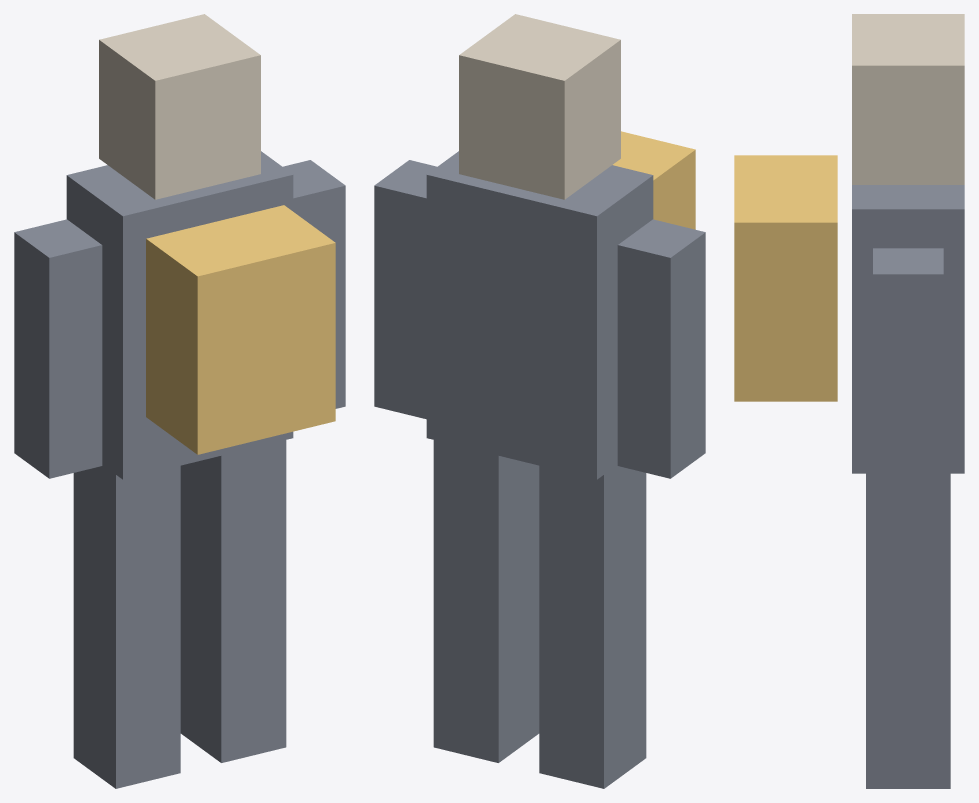
Rendered from npc_rucksack.glb.
3 views of the same model, side by side, from view 1: azimuth 30°, elevation 25°; view 2: azimuth 150°, elevation 25°; view 3: azimuth 270°, elevation 25° (orthographic).
Parts seen in each view (by area): view 1: rucksack, bein_links, bein_rechts, kopf, rumpf, arm_links, arm_rechts; view 2: rumpf, bein_links, bein_rechts, kopf, arm_links, arm_rechts, rucksack; view 3: rucksack, bein_rechts, kopf, arm_rechts, rumpf.
Boxes of the visible parts, <box> form: rucksack: <box>146,205,335,454</box>; bein_links: <box>73,465,180,788</box>; bein_rechts: <box>180,440,286,762</box>; kopf: <box>99,14,260,199</box>; rumpf: <box>66,151,293,479</box>; arm_links: <box>14,219,102,478</box>; arm_rechts: <box>283,160,345,408</box>; rumpf: <box>426,151,653,479</box>; bein_links: <box>539,465,646,788</box>; bein_rechts: <box>433,440,539,762</box>; kopf: <box>459,14,620,199</box>; arm_links: <box>617,219,705,478</box>; arm_rechts: <box>374,160,436,419</box>; rucksack: <box>613,131,695,229</box>; rucksack: <box>734,155,837,401</box>; bein_rechts: <box>866,473,950,788</box>; kopf: <box>852,14,964,184</box>; arm_rechts: <box>873,248,943,495</box>; rumpf: <box>852,185,964,473</box>.
Bounding box in the file's own units: 0.73 × 1.66 × 0.49.
